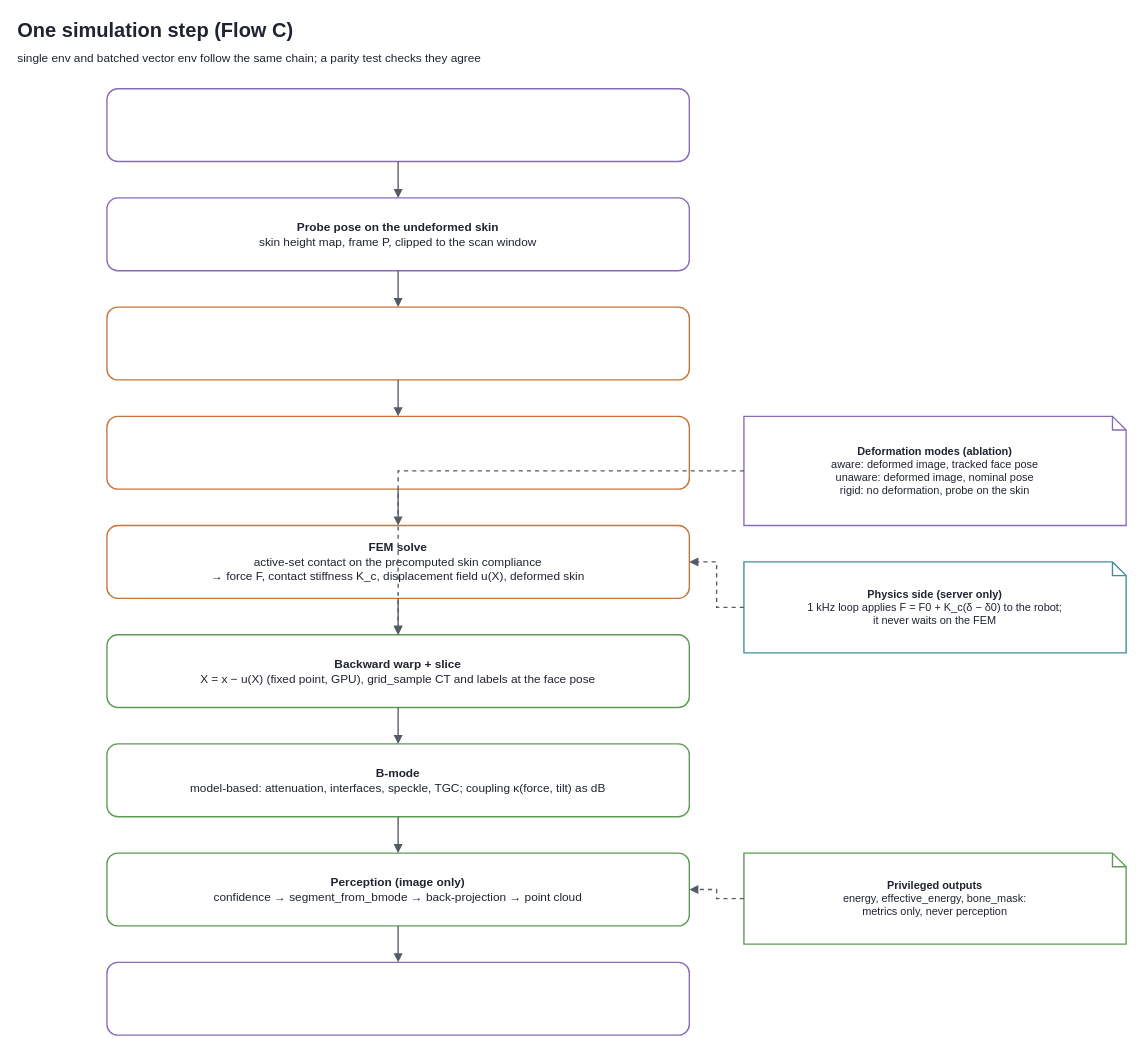
This 1142x1051 diagram has some shape labels left out. The shapes that lost their labels are listed below. From the top down, each one's box as (x1, y1, x2, y2) in pixels, then its label:
(106, 88, 690, 162): Action [dc1, dc2, dyaw, dpitch] ∈ [−1, 1] (+ optional target force)
(106, 306, 690, 380): First contact FEM first_contact_indentation (can be < 0)
(106, 415, 690, 489): Admittance loop δ ∈ [first contact, max indentation] so F_tissue(δ) ≈ 4 N
(106, 961, 690, 1035): Task evaluation reward, termination, metrics (labels allowed here only)
